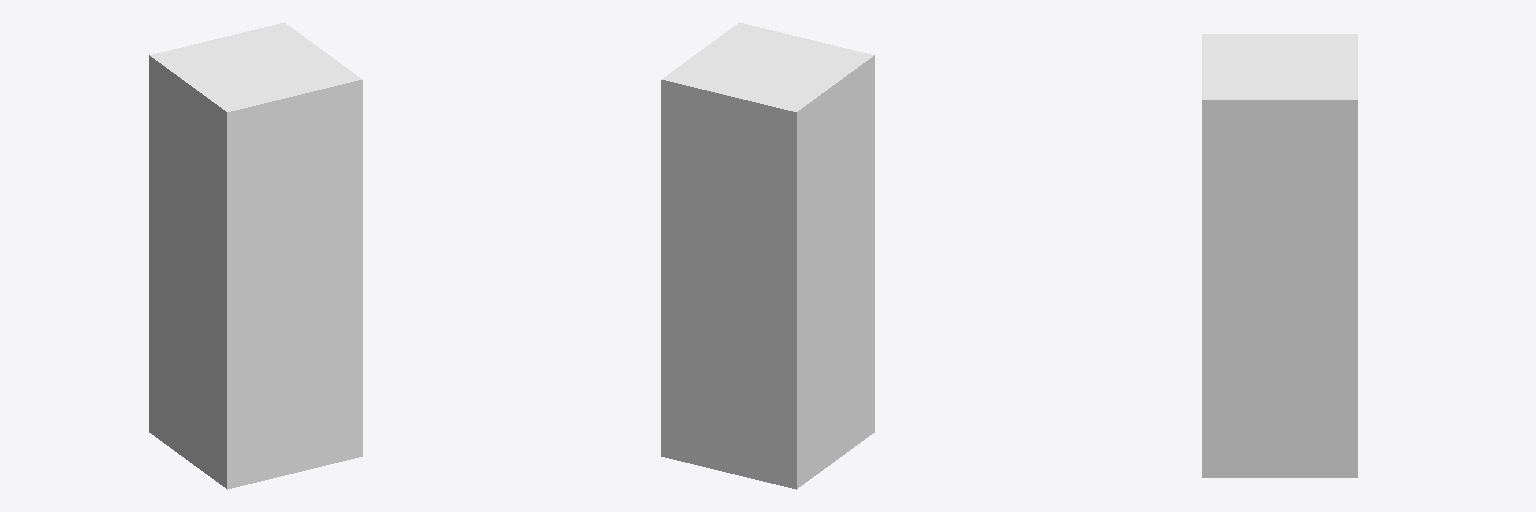
The model's file is alice_Rleg1.obj.
3 views of the same model, side by side, from view 1: azimuth 30°, elevation 25°; view 2: azimuth 150°, elevation 25°; view 3: azimuth 270°, elevation 25° (orthographic).
Visible parts, largest first — view 1: object 1; view 2: object 1; view 3: object 1.
Boxes of the visible parts, x1=… form: object 1: x1=149, y1=22, x2=362, y2=489; object 1: x1=661, y1=22, x2=874, y2=489; object 1: x1=1202, y1=34, x2=1357, y2=477.
Bounding box in the file's own units: 0.3 × 0.8 × 0.3.